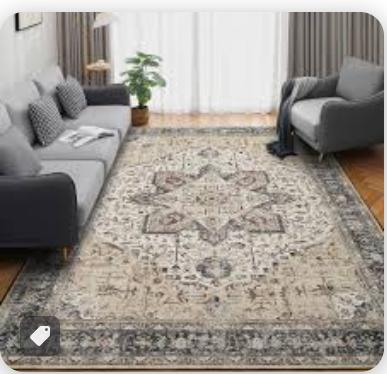carpet: (0, 126, 384, 370)
